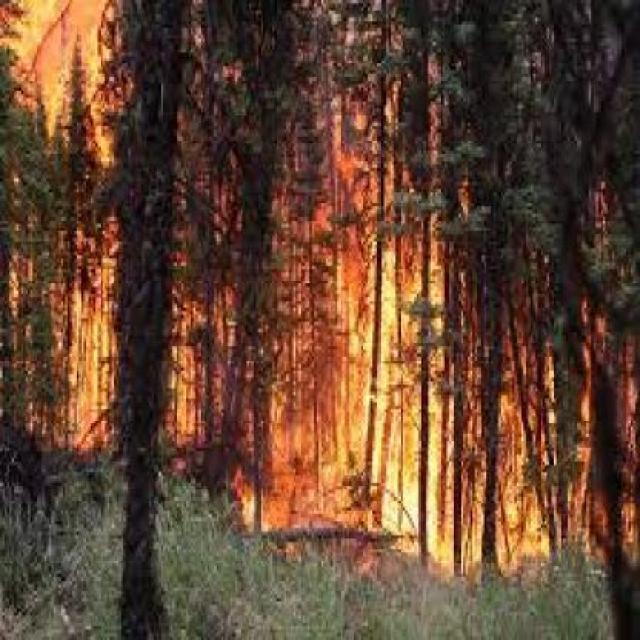Fire: (322, 203, 592, 606)
